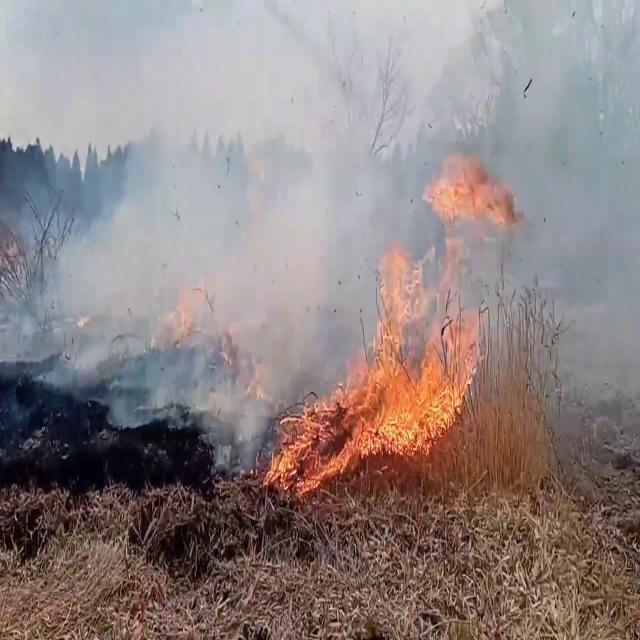Fire: (344, 233, 482, 459), (425, 147, 521, 235)
Smoke: (2, 0, 636, 449), (479, 0, 640, 454)
